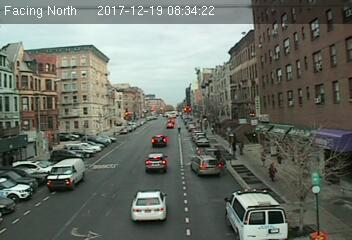car: (132, 190, 168, 222), (187, 154, 224, 176), (145, 152, 169, 172), (149, 134, 168, 147), (196, 137, 209, 145)
pedestrian: (266, 161, 281, 187)
police: (224, 186, 293, 240)
truck: (46, 157, 86, 192)
